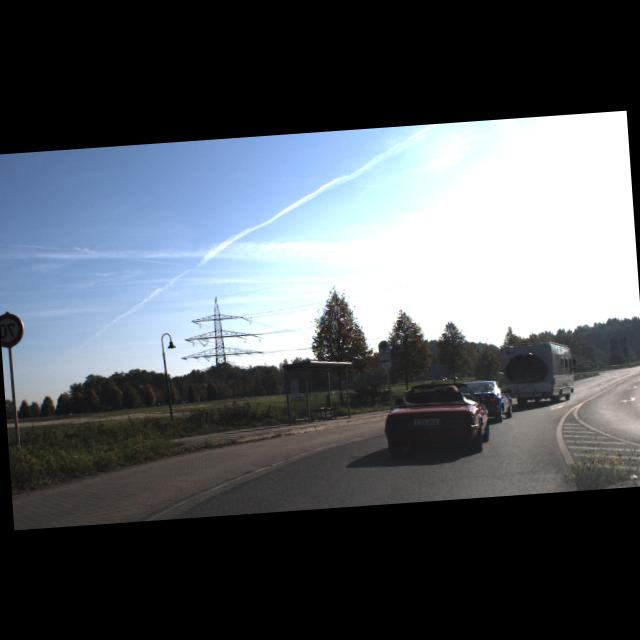prohibitory: (0, 311, 25, 348)
